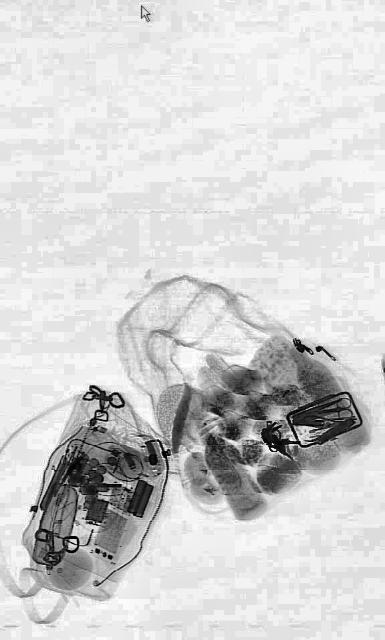Scissors: (312, 394, 354, 428)
